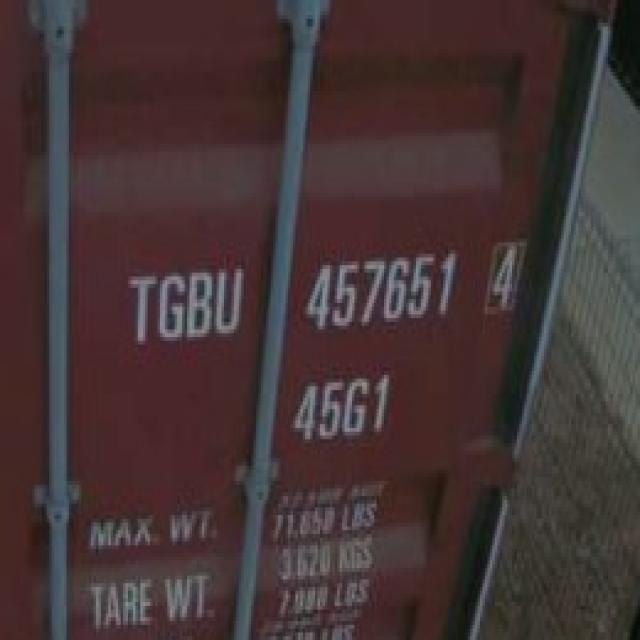dv: (484, 236, 524, 320)
owner: (121, 257, 248, 355)
serial: (303, 245, 464, 339)
size: (285, 367, 398, 443)
